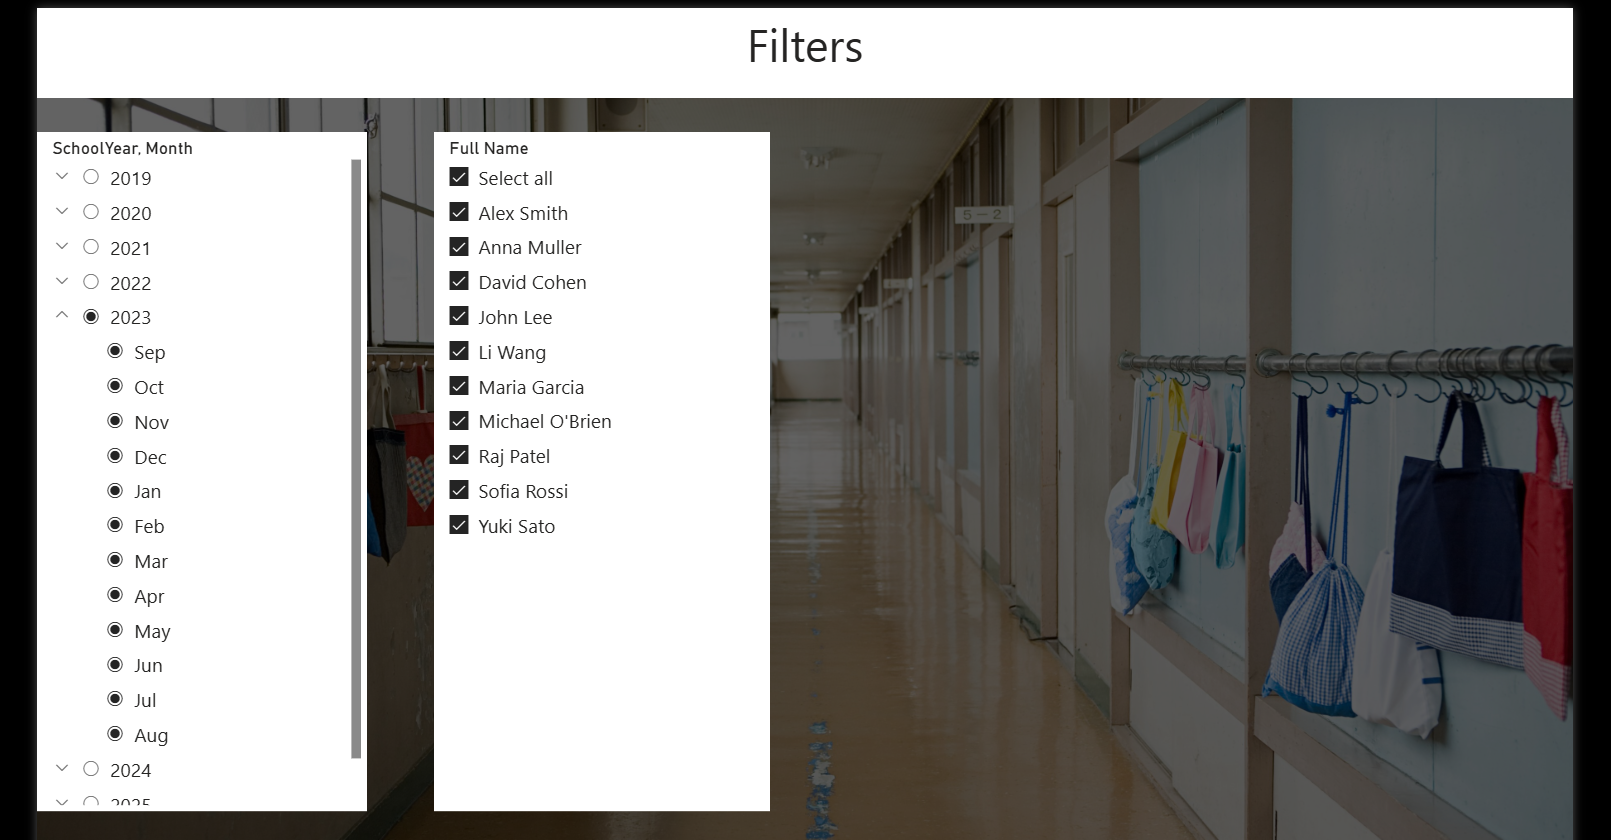

The page's visual inventory and layout, read from the dashboard file:
{"tool":"powerbi","page":{"name":"Filters","canvas":[1280,720],"ordinal":1},"visuals":[{"type":"textbox","box":[0,0,1280,75],"z":0},{"type":"slicer","fields":{"Values":["dimDate.SchoolYear Hierarchy.SchoolYear","dimDate.SchoolYear Hierarchy.Month"]},"box":[0,103,274.6,566.4],"z":1},{"type":"slicer","fields":{"Values":["Student.Full Name"]},"box":[331,103,279.5,566.4],"z":2}]}

Visuals, with their boxes on the page's 1280x720 design canvas (x1, y1, x2, y2). These are canvas units, not pixel positions in the 1611x840 screenshot, which may show the page scaled, cropped or inside an application window:
textbox: bbox(0, 0, 1280, 75)
slicer - dimDate.SchoolYear Hierarchy.SchoolYear x dimDate.SchoolYear Hierarchy.Month: bbox(0, 103, 275, 669)
slicer - Student.Full Name: bbox(331, 103, 610, 669)
